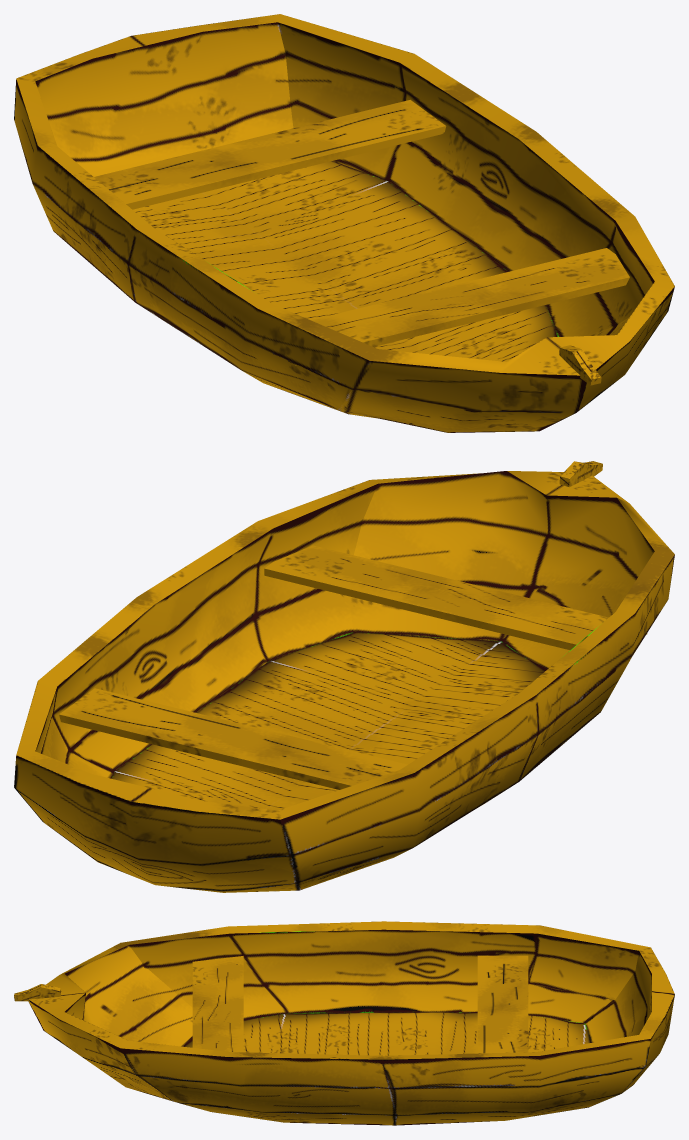
Rendered from boat model.fbx.
3 renders of one model, top to bottom at view 1: azimuth 30°, elevation 25°; view 2: azimuth 150°, elevation 25°; view 3: azimuth 270°, elevation 25°, orthographic. The views are drawn at different scales.
Parts seen in each view (by area): view 1: Box001; view 2: Box001; view 3: Box001.
Part boxes in pixels (x1,y1,x2,y2): Box001: (14,14,674,432); Box001: (14,461,674,892); Box001: (14,921,674,1125).
Size of the model in its own units: 23.07 by 7.18 by 45.37.
